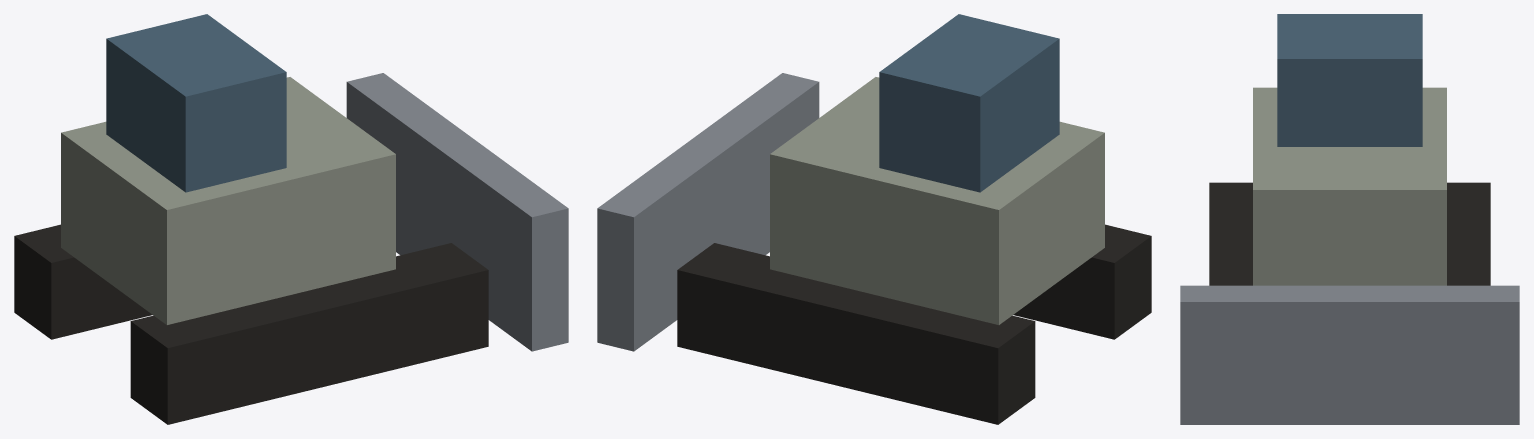
The model's file is bulldozer.glb.
3 views of the same model, side by side, from view 1: azimuth 30°, elevation 25°; view 2: azimuth 150°, elevation 25°; view 3: azimuth 270°, elevation 25° (orthographic). The views are drawn at different scales.
Visible parts, largest first — view 1: bulldozer_mesh; view 2: bulldozer_mesh; view 3: bulldozer_mesh.
Part boxes in pixels (x1=…): bulldozer_mesh: x1=14, y1=14, x2=568, y2=424; bulldozer_mesh: x1=597, y1=14, x2=1151, y2=424; bulldozer_mesh: x1=1180, y1=14, x2=1519, y2=424.
Bounding box in the file's own units: 0.084 × 0.06 × 0.07.
